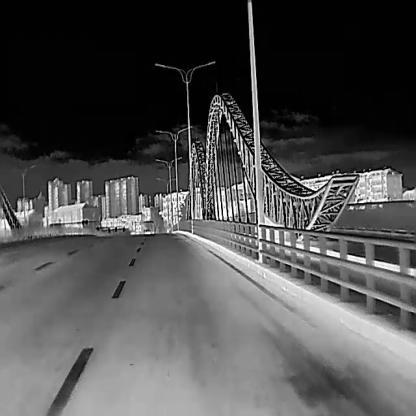car: (144, 227, 151, 233)
